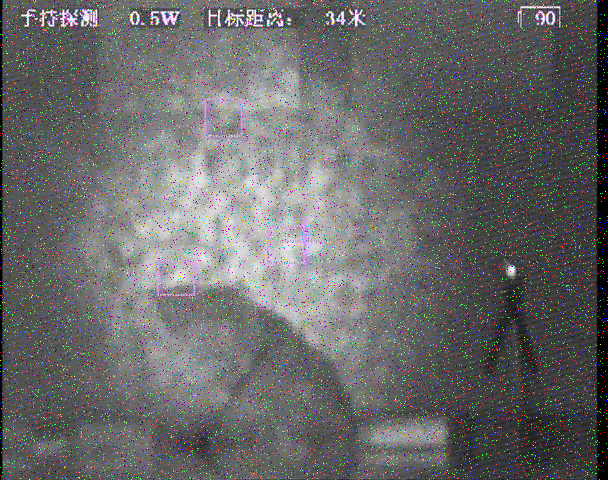my: (505, 263, 517, 277)
